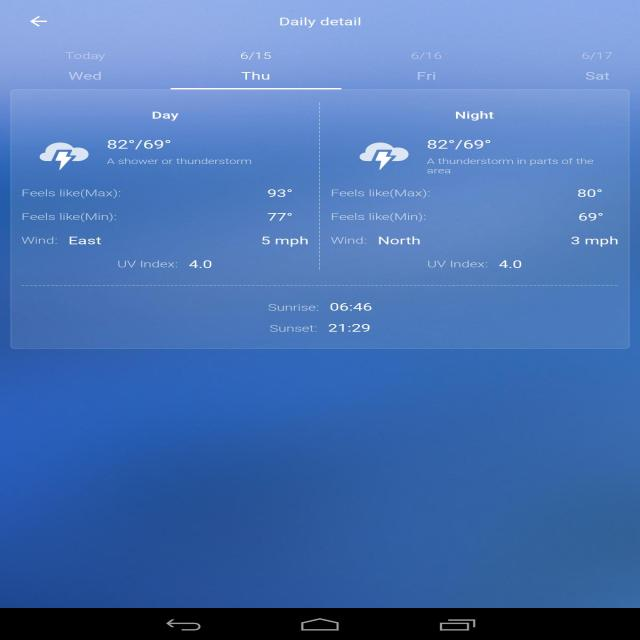button: (164, 48, 344, 89), (361, 48, 493, 90), (532, 45, 636, 87), (50, 46, 127, 88), (22, 13, 61, 32)
heading: (272, 13, 373, 30), (454, 108, 498, 122), (148, 107, 185, 123)
image: (351, 139, 414, 172), (34, 139, 93, 172)
text: (15, 188, 312, 276), (327, 187, 621, 273), (419, 138, 597, 175), (104, 138, 262, 168), (266, 300, 378, 336)
